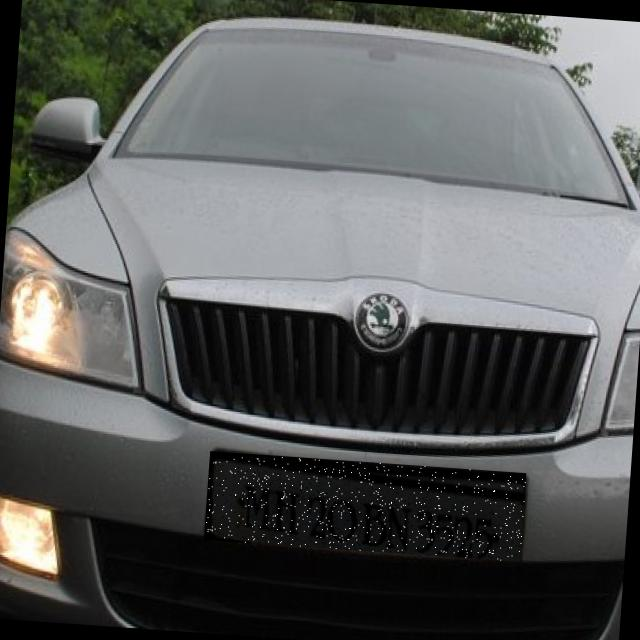Plate: (205, 452, 527, 563)
